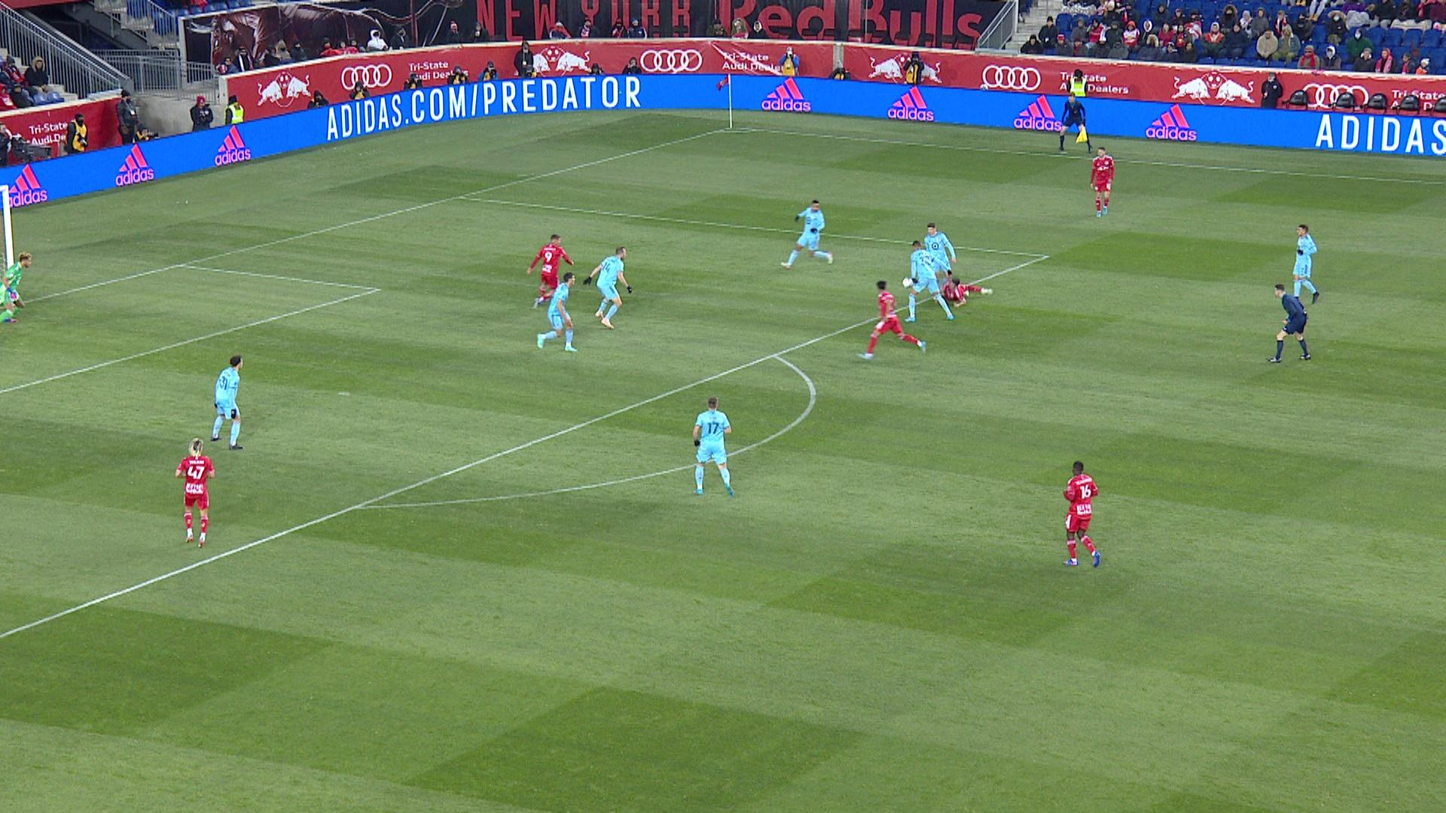Goalkeeper: (0, 252, 32, 325)
Player: (856, 281, 926, 361), (175, 438, 215, 548), (902, 240, 954, 323), (693, 396, 735, 496), (583, 246, 632, 329), (1063, 461, 1101, 568), (781, 200, 833, 268), (527, 234, 574, 309), (537, 272, 577, 352), (211, 355, 244, 451), (924, 222, 956, 303), (1293, 225, 1319, 304), (1090, 147, 1115, 218), (940, 278, 993, 307)
ball: (901, 277, 912, 288)
referee: (1266, 284, 1310, 362), (1059, 92, 1093, 152)
